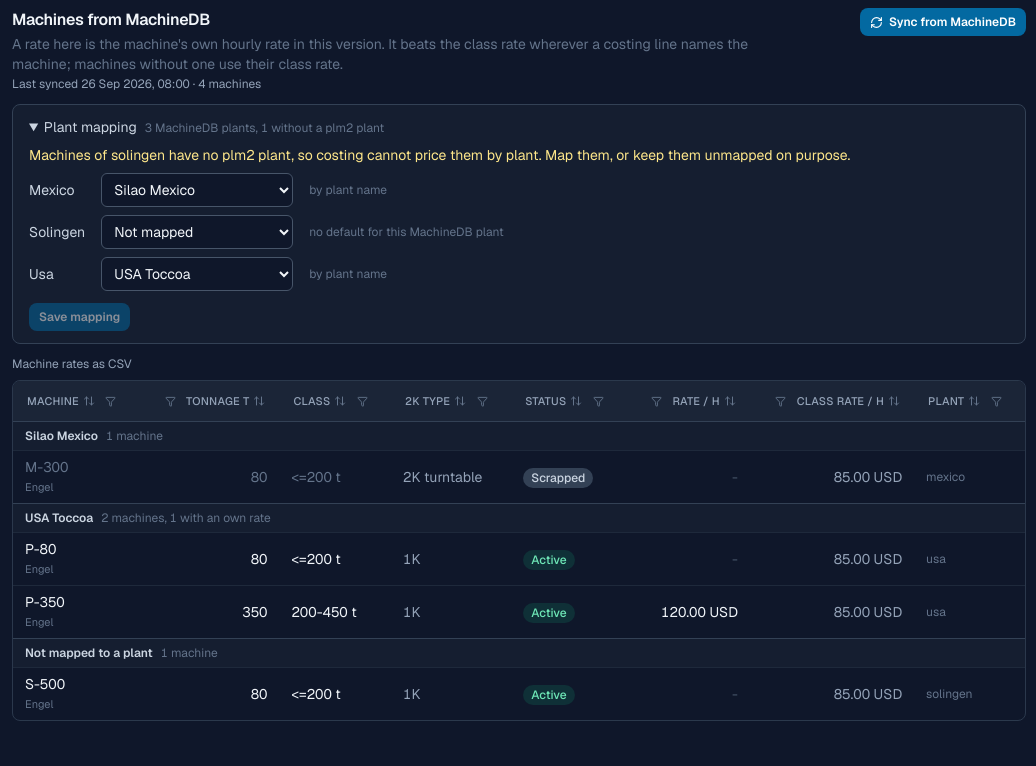
it: MachinesPanel › shows the sync report after a sync
What coordinates should you click on to do the following:
click the button "Sync from MachineDB"
I would click on:
 (943, 22)
Its box is [860, 8, 1026, 36].
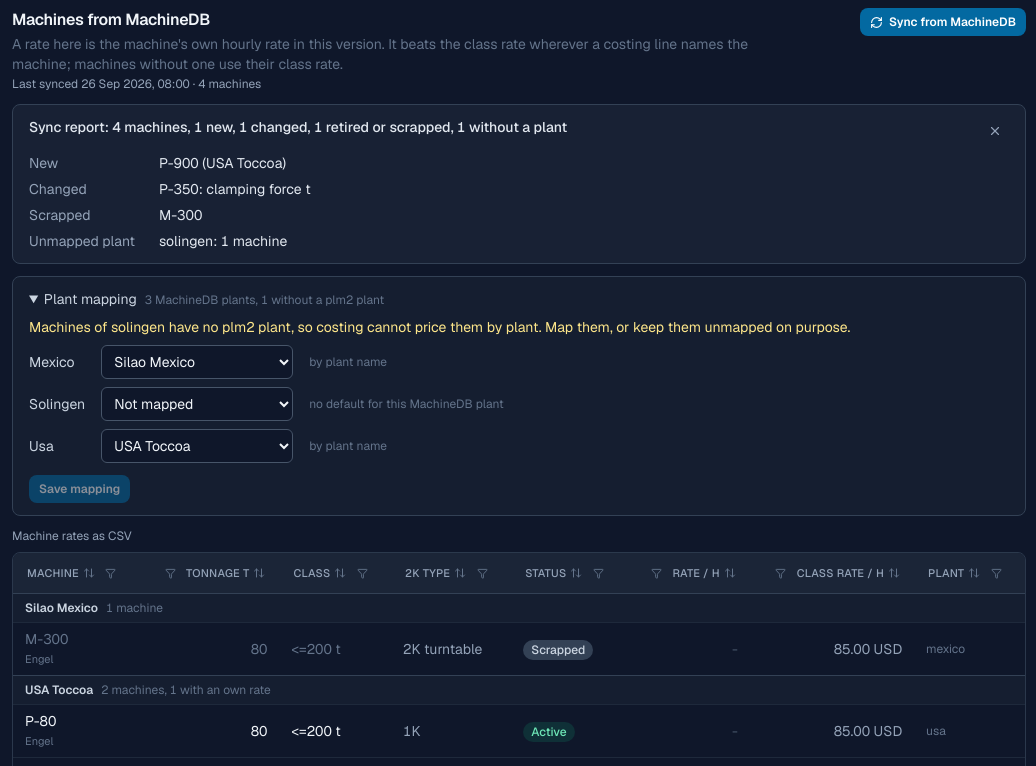
Expected: the message with test id "machinedb-sync-report" shows "P-900 (USA Toccoa)", [159, 154, 286, 172]
Expected: the message with test id "machinedb-sync-report" shows "P-350: clamping force t", [159, 180, 311, 198]
Expected: the message with test id "machinedb-sync-report" shows "solingen: 1 machine", [159, 232, 287, 250]
